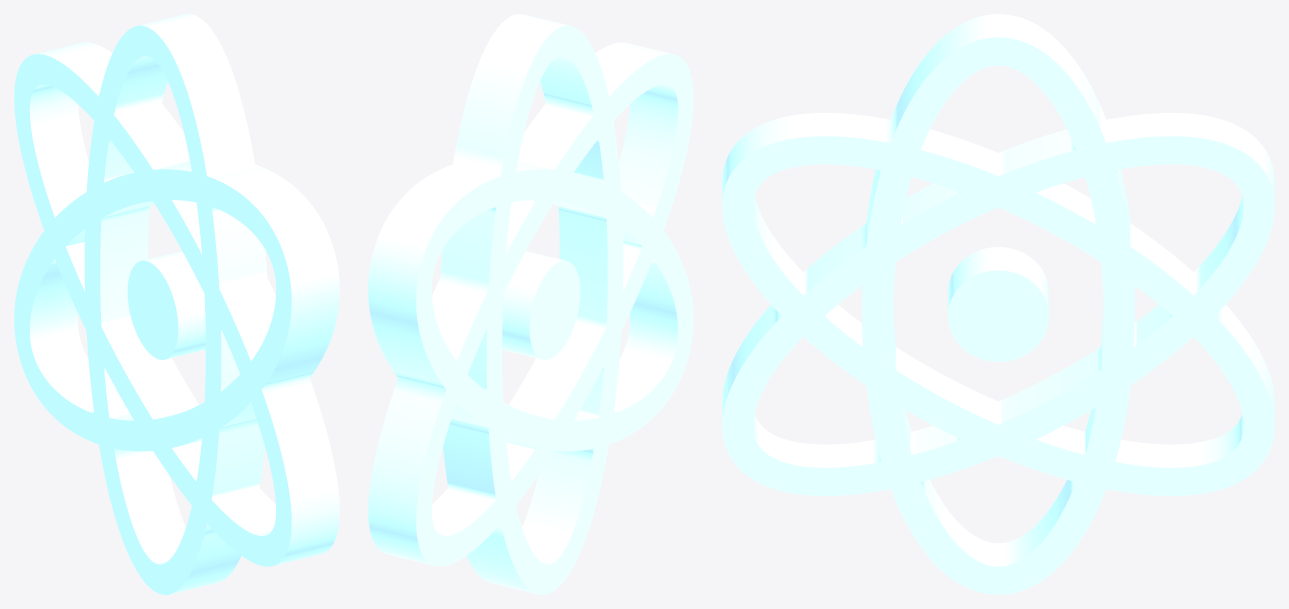
Rendered from react.gltf.
3 views of the same model, side by side, from view 1: azimuth 30°, elevation 25°; view 2: azimuth 150°, elevation 25°; view 3: azimuth 270°, elevation 25° (orthographic).
Visible parts, largest first — view 1: Curve.002, Curve; view 2: Curve.002, Curve; view 3: Curve.002, Curve.
Part boxes in pixels (x1,y1,x2,y2): Curve.002: [14, 14, 339, 594]; Curve: [127, 251, 205, 359]; Curve.002: [368, 14, 693, 594]; Curve: [502, 251, 580, 359]; Curve.002: [722, 14, 1274, 594]; Curve: [948, 247, 1048, 361].
Size of the model in its own units: 0.012 by 0.1338 by 0.1202.
